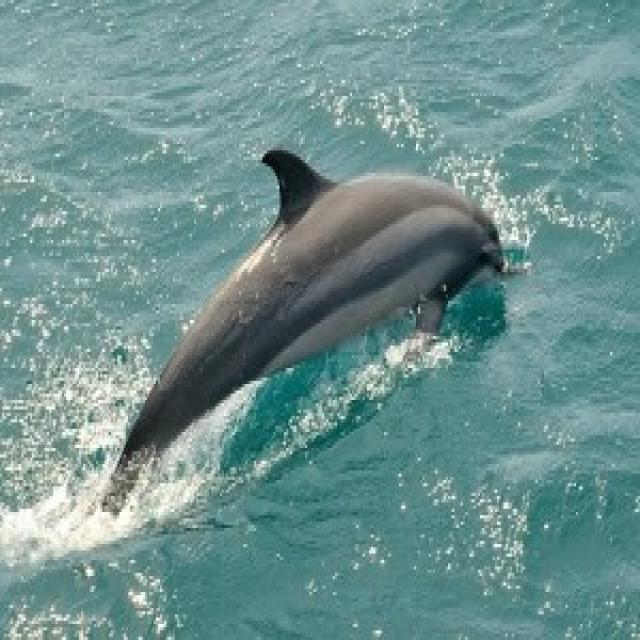Dolphin: (92, 118, 518, 539)
